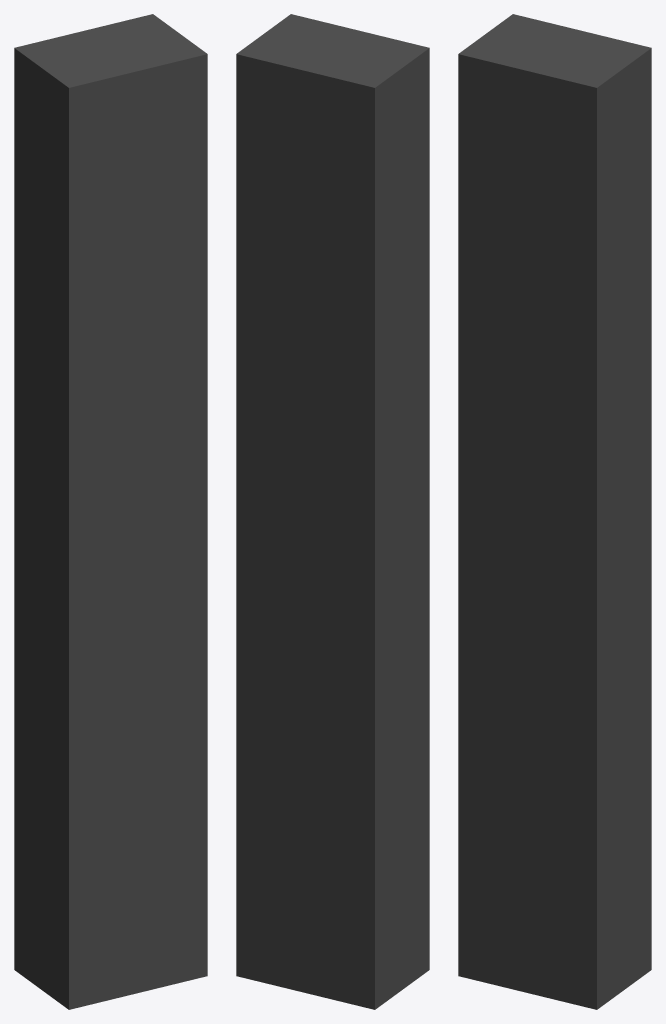
File: Itr_Obj_Monitor_LCD_Neck_05.FBX
3 views of the same model, side by side, from view 1: azimuth 30°, elevation 25°; view 2: azimuth 150°, elevation 25°; view 3: azimuth 330°, elevation 25° (orthographic).
Visible parts, largest first — view 1: Itr_Obj_Monitor_LCD_Neck_05; view 2: Itr_Obj_Monitor_LCD_Neck_05; view 3: Itr_Obj_Monitor_LCD_Neck_05.
Boxes of the visible parts, <box> form: Itr_Obj_Monitor_LCD_Neck_05: <box>14,14,207,1009</box>; Itr_Obj_Monitor_LCD_Neck_05: <box>236,14,429,1009</box>; Itr_Obj_Monitor_LCD_Neck_05: <box>458,14,651,1009</box>.
Bounding box in the file's own units: 5.01 × 31.78 × 3.42.
